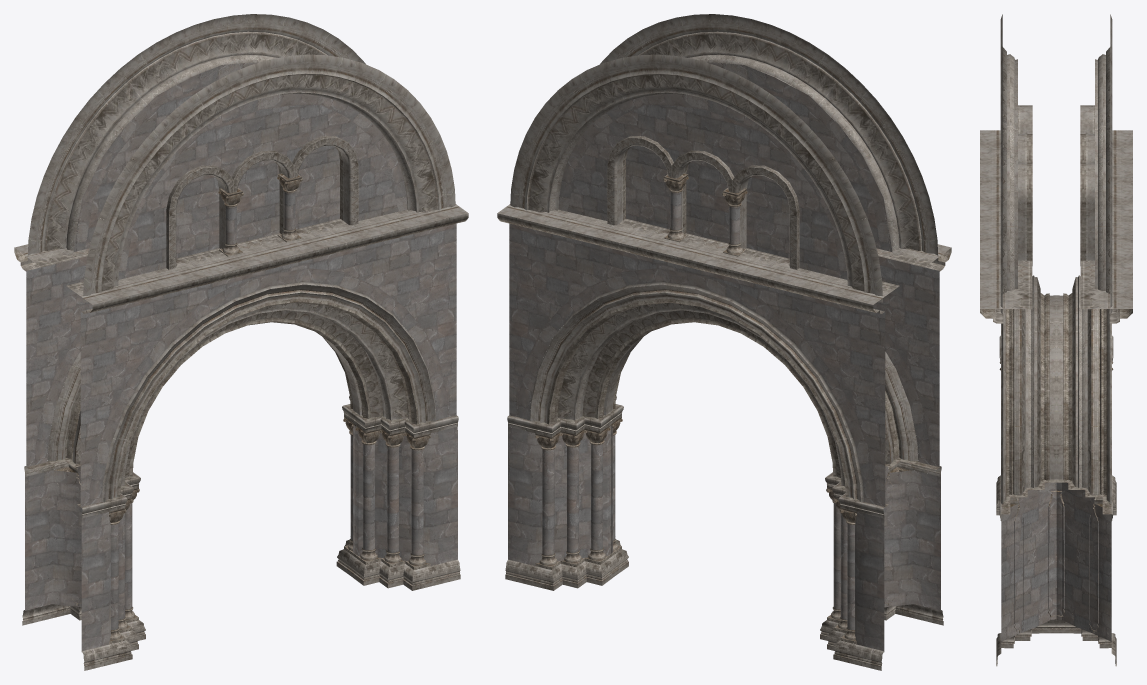
3 renders of one model, left to right at view 1: azimuth 30°, elevation 25°; view 2: azimuth 150°, elevation 25°; view 3: azimuth 270°, elevation 25°, orthographic. The views are drawn at different scales.
Visible parts, largest first — view 1: Sm_Dungeon_BlindArcade_LOD0; view 2: Sm_Dungeon_BlindArcade_LOD0; view 3: Sm_Dungeon_BlindArcade_LOD0.
Part boxes in pixels (x1,y1,x2,y2): Sm_Dungeon_BlindArcade_LOD0: (14, 14, 468, 670); Sm_Dungeon_BlindArcade_LOD0: (497, 14, 951, 670); Sm_Dungeon_BlindArcade_LOD0: (980, 14, 1132, 666).
Bounding box in the file's own units: 7.4 × 10.59 × 2.68.
3 materials, 3 textured.
